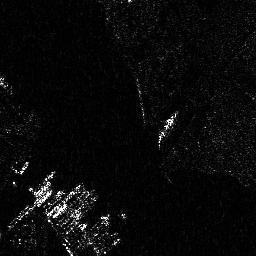ship: (154, 111, 180, 145), (30, 169, 56, 197)
